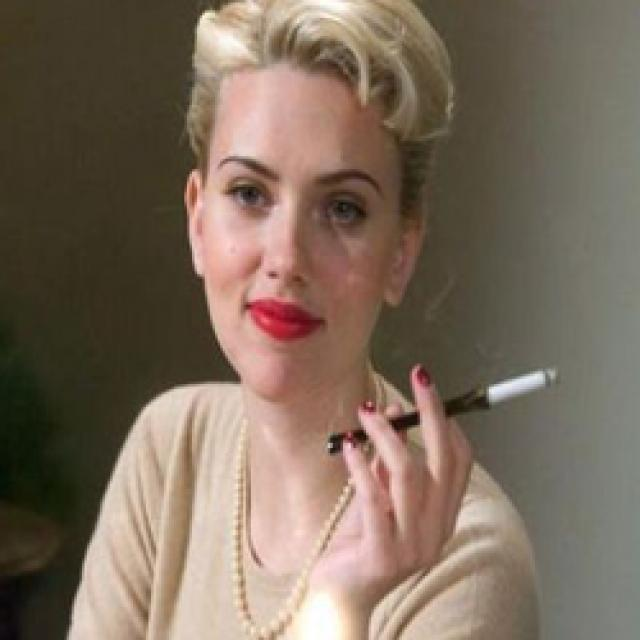Smooking: (328, 346, 574, 450)
